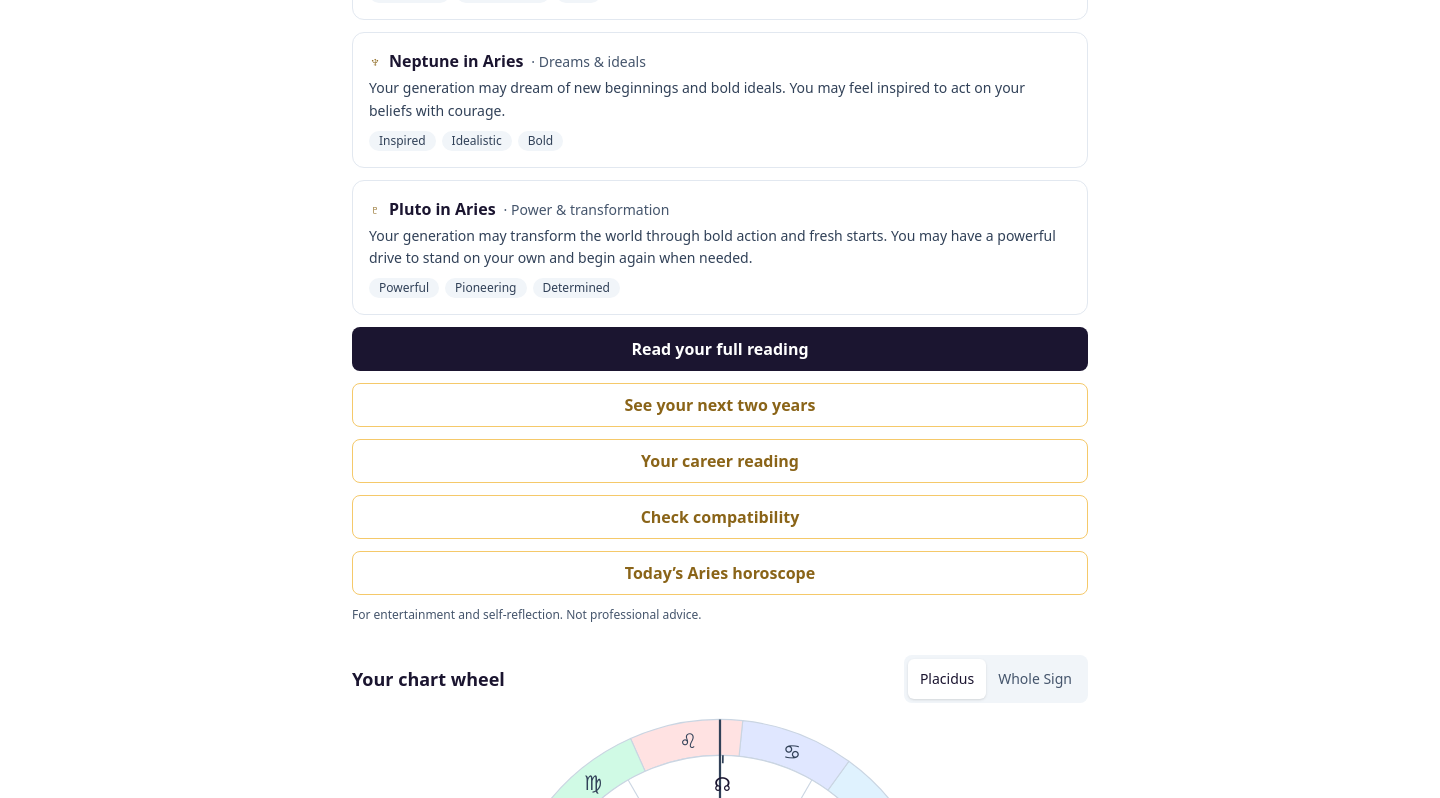
Scenario: ForecastPage › opens from the chart page, signed out, without network calls
(page scrolled)
Click the link "See your next two years". click: (720,405)
box: top-left (352, 383), bottom-right (1088, 427)
(page scrolled)
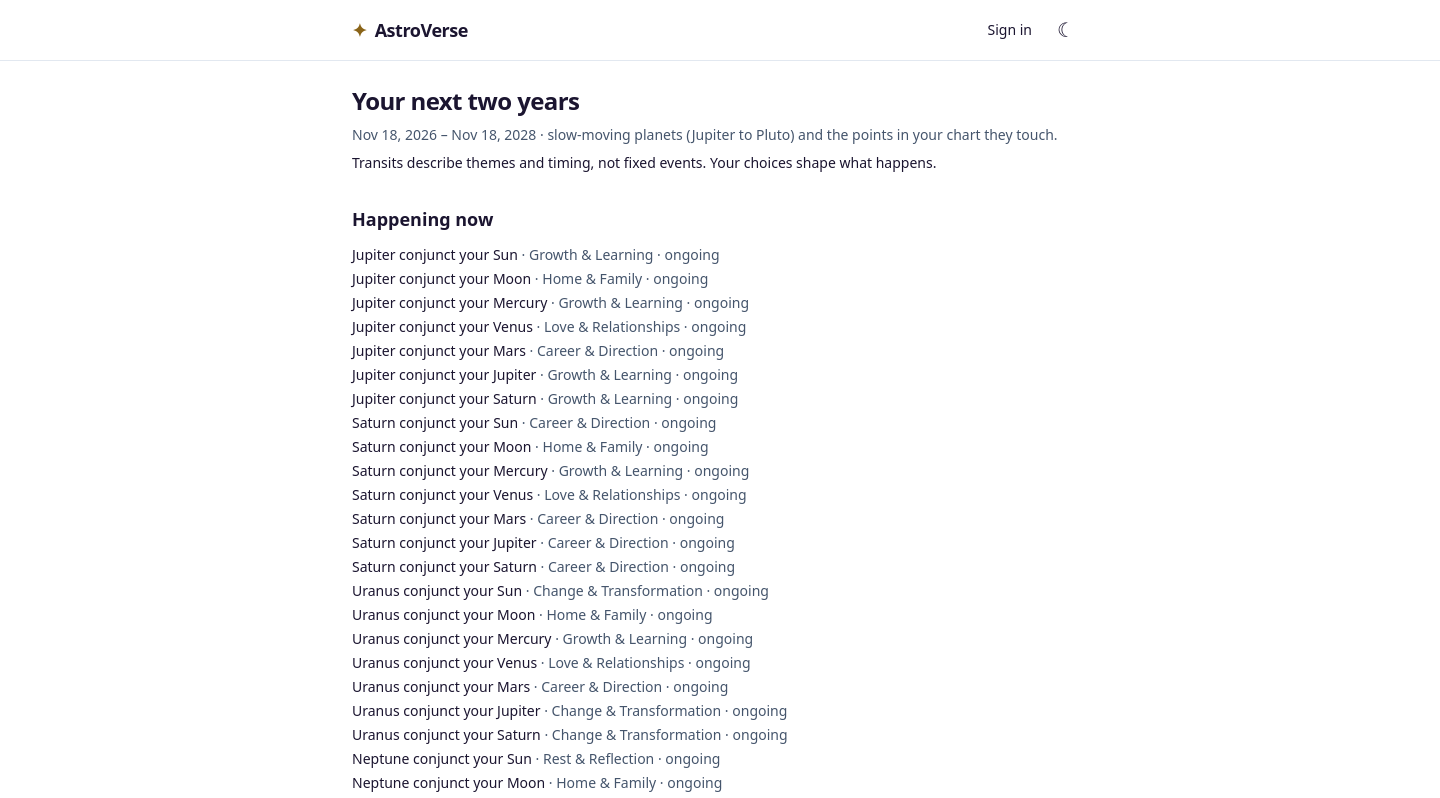
Expected: the heading "Your next two years" is shown, top-left (352, 84), bottom-right (579, 117)
